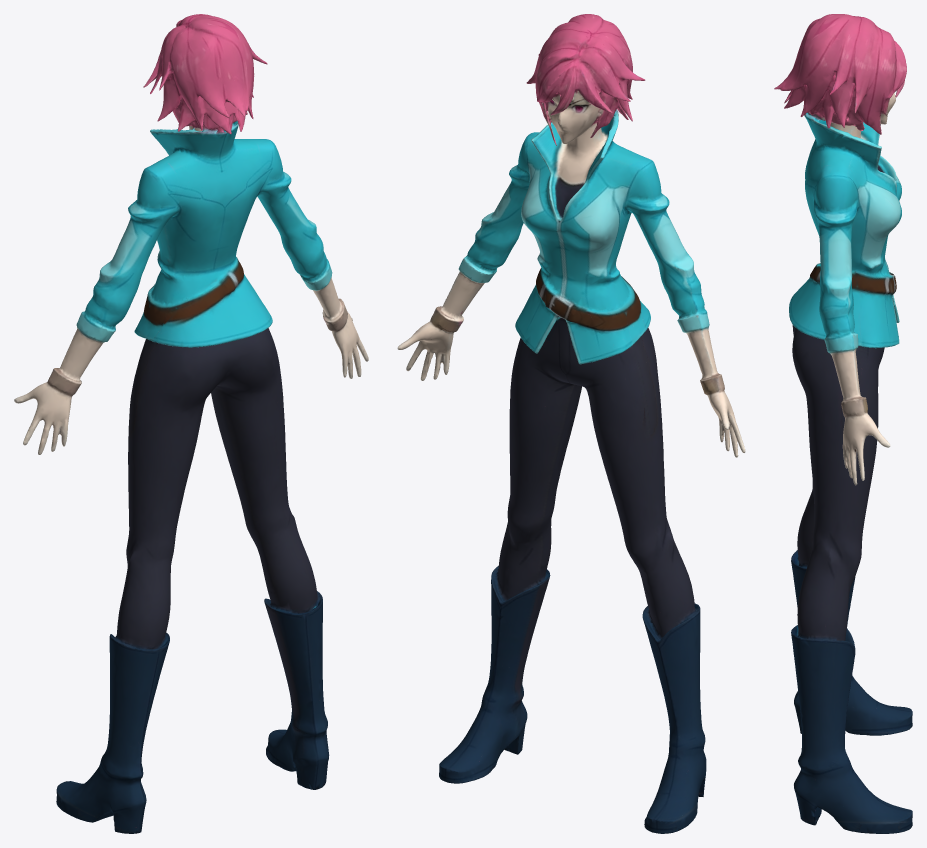
The model's file is kaida-r2-unrigged.glb.
3 views of the same model, side by side, from view 1: azimuth 30°, elevation 25°; view 2: azimuth 150°, elevation 25°; view 3: azimuth 270°, elevation 25° (orthographic). The views are drawn at different scales.
Parts seen in each view (by area): view 1: Kaida; view 2: Kaida; view 3: Kaida.
Boxes of the visible parts, box(x1,y1,x2,y2) form: Kaida: box(14, 14, 368, 833); Kaida: box(397, 14, 745, 833); Kaida: box(774, 14, 912, 833).
Bounding box in the file's own units: 0.883 × 1.9 × 0.3139.
Materials: 1 (1 with a texture image).
